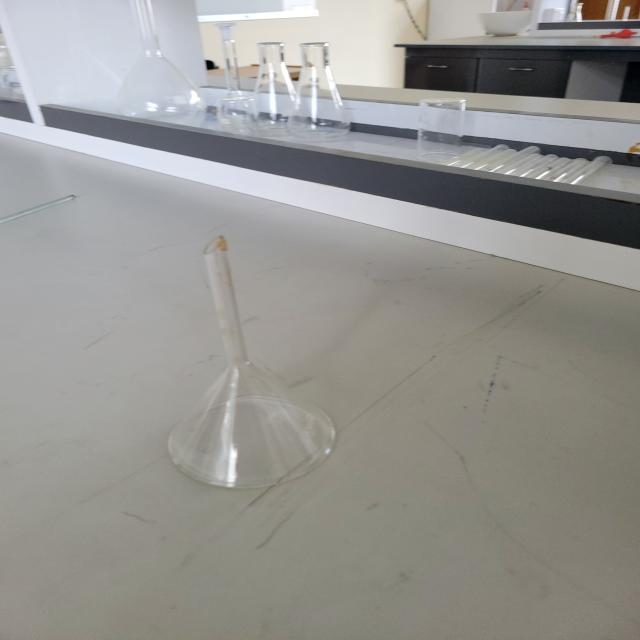Funnel: (144, 189, 389, 551)
